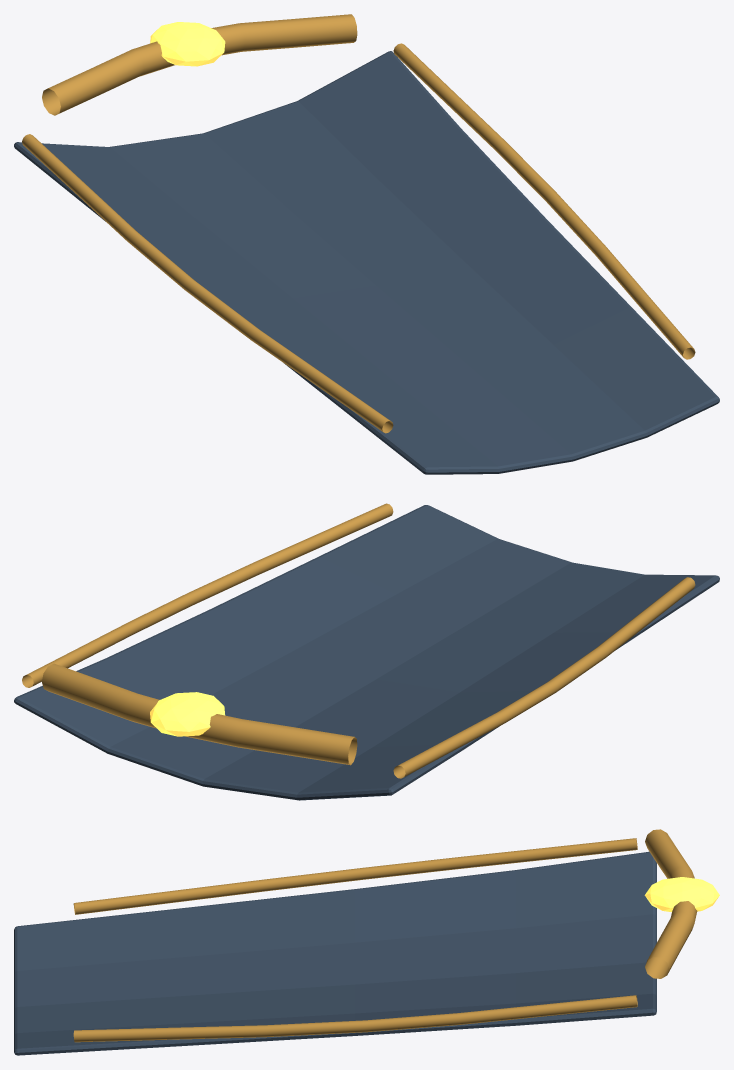
The model's file is cape_bastion.glb.
The picture shows the model from 3 angles, top to bottom: view 1: azimuth 30°, elevation 25°; view 2: azimuth 150°, elevation 25°; view 3: azimuth 270°, elevation 25°; orthographic projection. The views are drawn at different scales.
Parts seen in each view (by area): view 1: CapeCloth, TopClasp, HemL, HemR, CapeClasp; view 2: CapeCloth, TopClasp, HemR, HemL, CapeClasp; view 3: CapeCloth, HemL, HemR, TopClasp, CapeClasp.
Part boxes in pixels (x1,y1,x2,y2): CapeCloth: (14,51,719,474); TopClasp: (42,14,357,115); HemL: (22,134,393,433); HemR: (393,43,695,359); CapeClasp: (150,22,225,66); CapeCloth: (14,505,719,800); TopClasp: (42,663,357,765); HemR: (22,503,393,687); HemL: (393,577,695,778); CapeClasp: (150,692,225,736); CapeCloth: (14,851,656,1055); HemL: (73,838,637,914); HemR: (73,995,637,1042); TopClasp: (645,829,697,978); CapeClasp: (644,877,719,912).
Size of the model in its own units: 0.764 by 0.2875 by 1.41.
